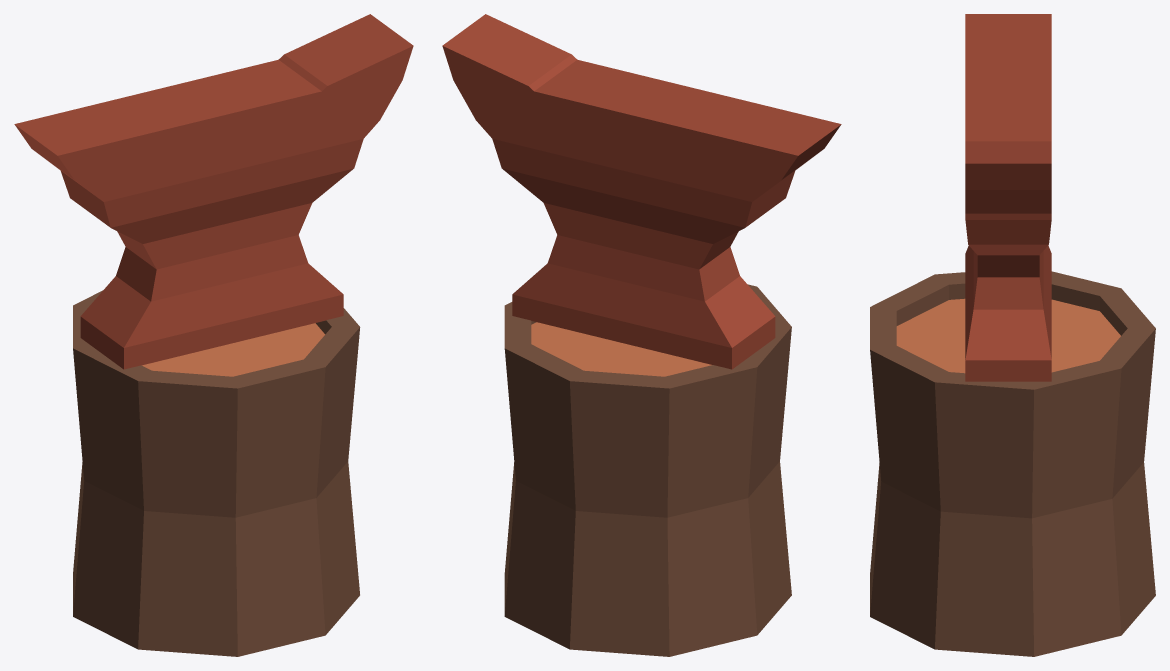
File: Anvil_4_Red.fbx
The picture shows the model from 3 angles, left to right: view 1: azimuth 30°, elevation 25°; view 2: azimuth 150°, elevation 25°; view 3: azimuth 270°, elevation 25°; orthographic projection.
Parts seen in each view (by area): view 1: Anvil_4_Red_Part_1, Anvil_4_Red_Part_3, Anvil_4_Red_Part_2; view 2: Anvil_4_Red_Part_1, Anvil_4_Red_Part_3, Anvil_4_Red_Part_2; view 3: Anvil_4_Red_Part_1, Anvil_4_Red_Part_3, Anvil_4_Red_Part_2.
Part boxes in pixels (x1,y1,x2,y2): Anvil_4_Red_Part_1: [73, 290, 360, 656]; Anvil_4_Red_Part_3: [14, 14, 413, 369]; Anvil_4_Red_Part_2: [142, 323, 324, 376]; Anvil_4_Red_Part_1: [504, 284, 791, 656]; Anvil_4_Red_Part_3: [442, 14, 841, 369]; Anvil_4_Red_Part_2: [531, 322, 711, 376]; Anvil_4_Red_Part_1: [870, 271, 1155, 656]; Anvil_4_Red_Part_3: [965, 14, 1051, 381]; Anvil_4_Red_Part_2: [896, 298, 1120, 373].
Bounding box in the file's own units: 97.15 × 136 × 67.89.
